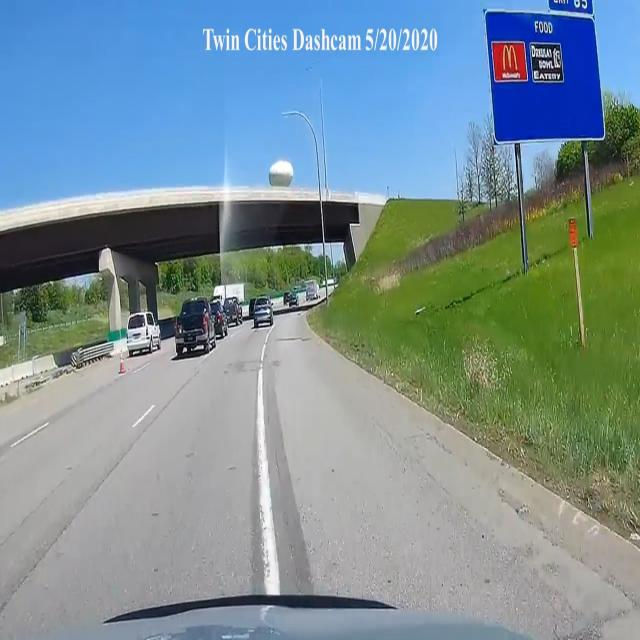cone: (117, 351, 126, 376)
